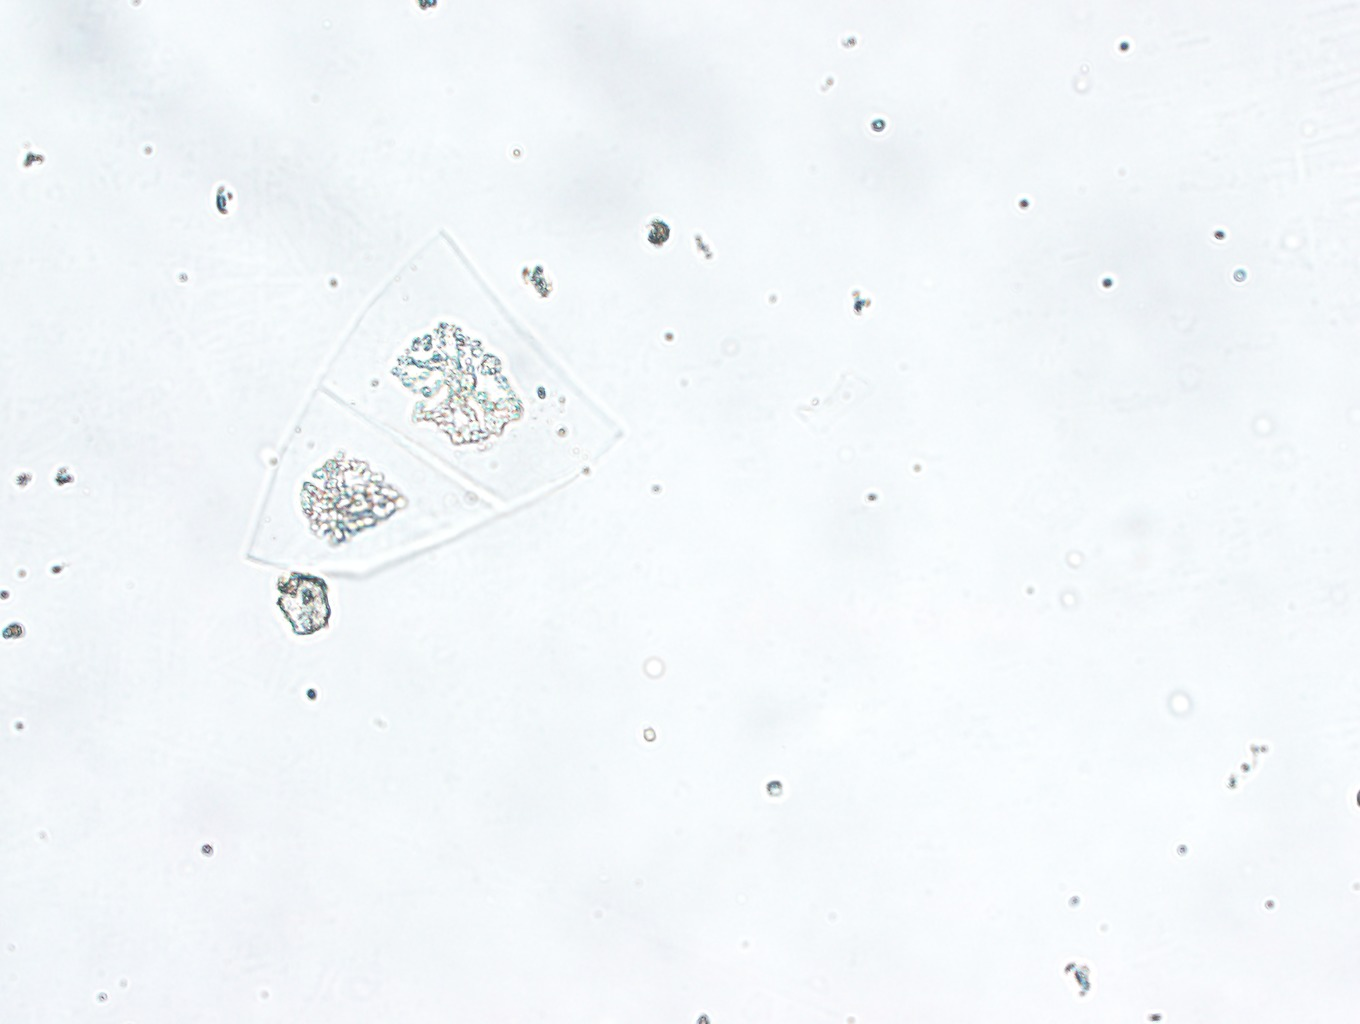helicotheca: (241, 221, 628, 584)
